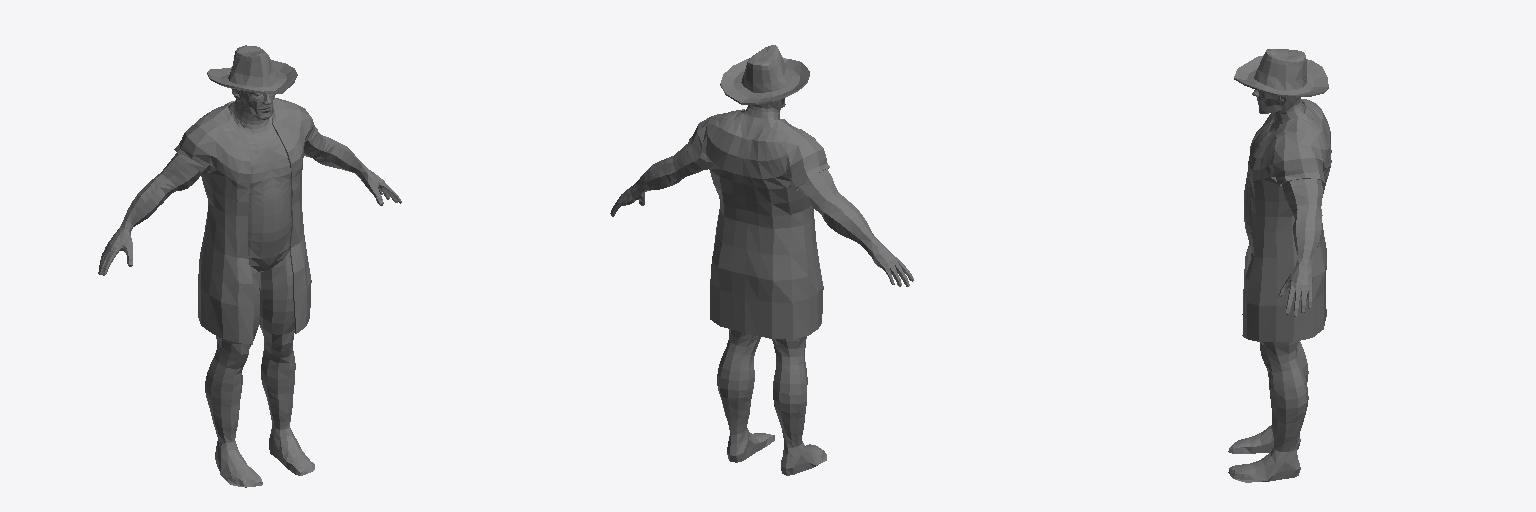
The model's file is character04.obj.
3 renders of one model, left to right at view 1: azimuth 30°, elevation 25°; view 2: azimuth 150°, elevation 25°; view 3: azimuth 270°, elevation 25°, orthographic.
Visible parts, largest first — view 1: polySurface5; view 2: polySurface5; view 3: polySurface5.
Part boxes in pixels (x1,y1,x2,y2): polySurface5: (98, 45, 401, 487); polySurface5: (610, 45, 913, 475); polySurface5: (1228, 49, 1331, 482).
Size of the model in its own units: 1.56 by 2.05 by 0.4656.